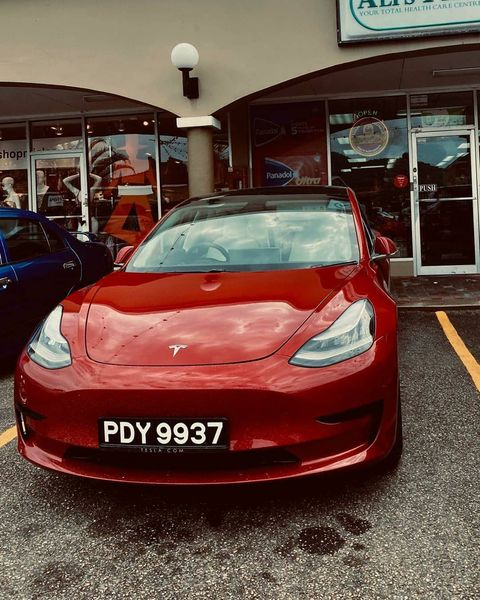License-Plate: (98, 419, 225, 445)
